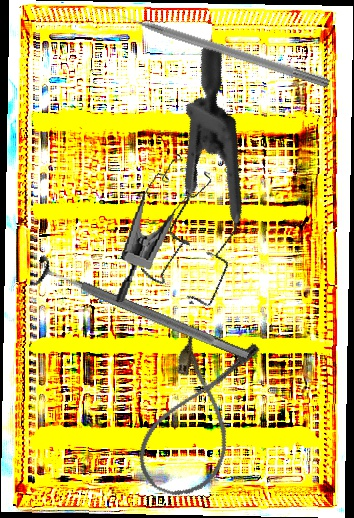Cannula: (127, 319, 267, 509)
Fixation Ring: (28, 253, 255, 373)
Pusher: (104, 4, 332, 89)
Speculum: (67, 42, 317, 326), (113, 147, 216, 314)
